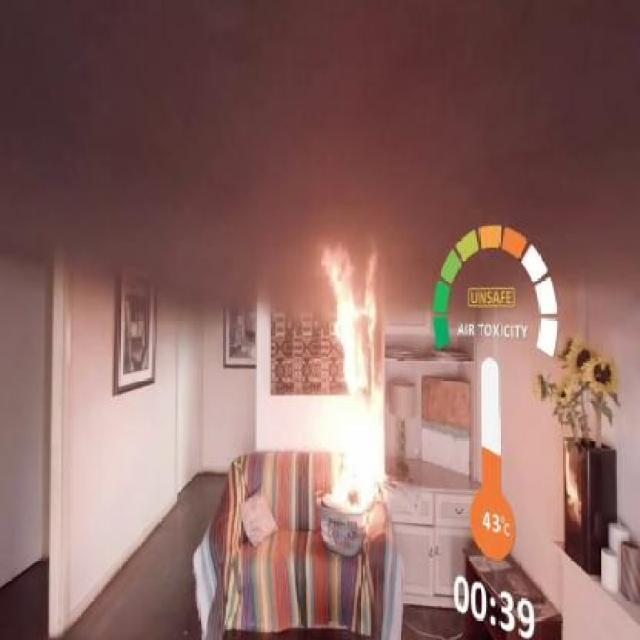fire: (304, 233, 382, 555)
smoke: (151, 32, 412, 220)
